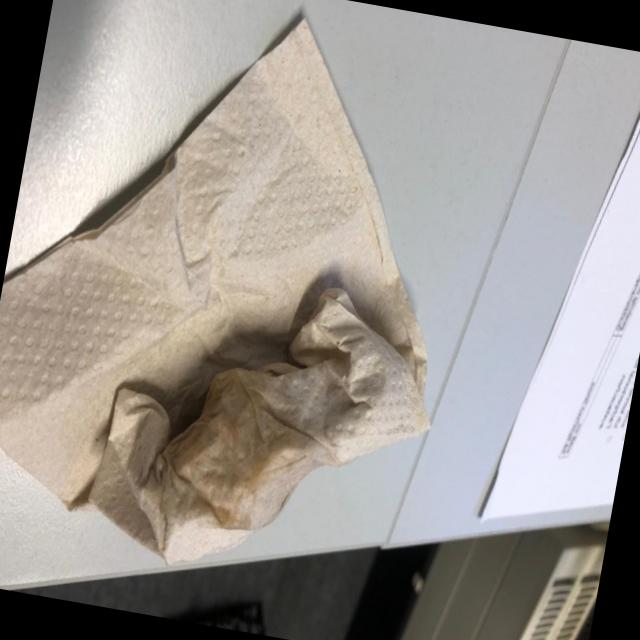organic waste: (0, 0, 497, 601)
